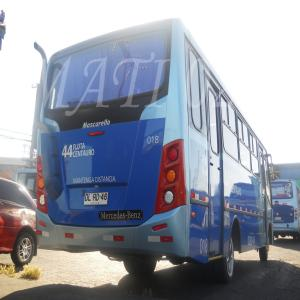Vehicle-registration-plate: (85, 194, 109, 205), (275, 217, 282, 220)
